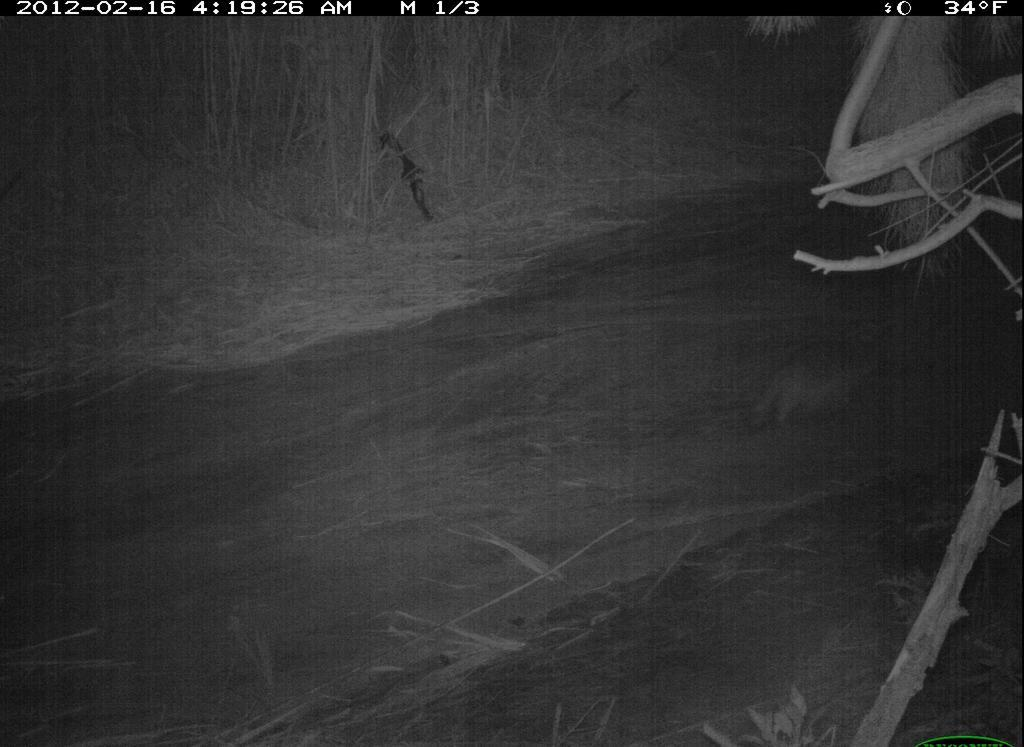raccoon: (730, 331, 893, 440)
